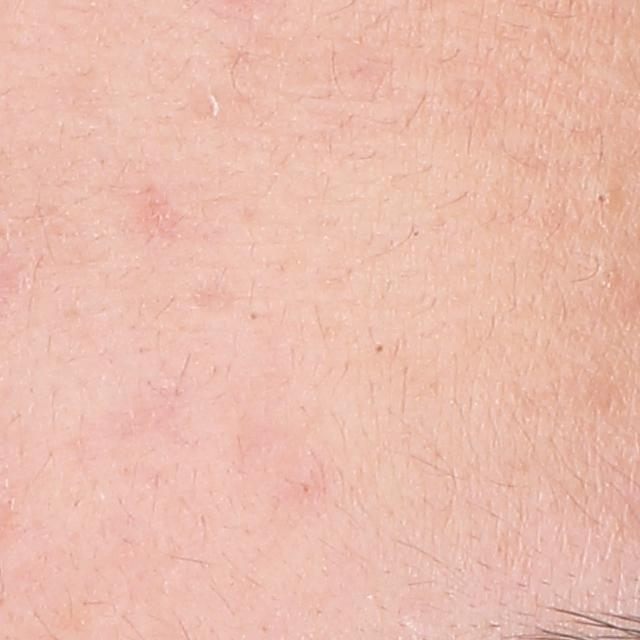comedo: (591, 187, 614, 208), (371, 341, 388, 356), (245, 308, 261, 323)
